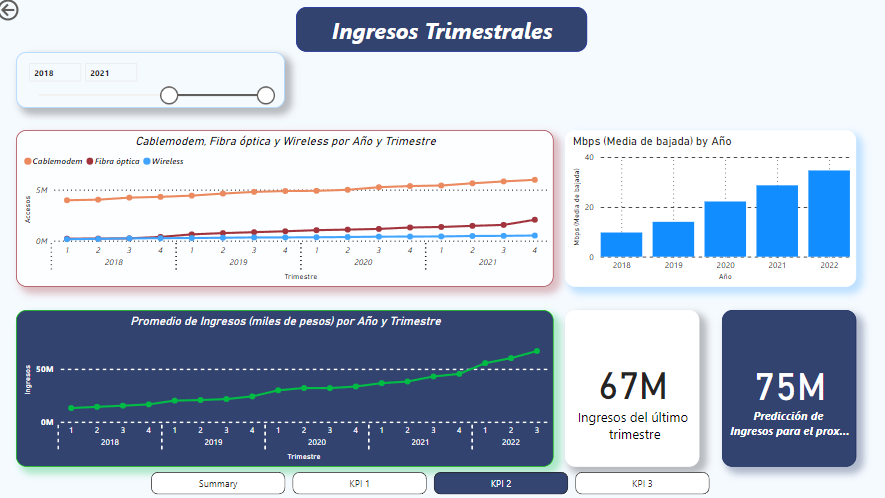

What the dashboard file says about the page in this screenshot:
{"tool":"powerbi","page":{"name":"KPI 2","canvas":[1280,720],"ordinal":2},"visuals":[{"type":"actionButton","box":[0,0,100,40],"z":0},{"type":"slicer","fields":{"Values":["año.Año"]},"box":[32,80,384,80],"z":1000},{"type":"lineChart","title":"Cablemodem, Fibra óptica y Wireless por Año y Trimestre","fields":{"Y":["Sum(Serie_trimestral_accesos_Internet_fijo_por_tecnología.Cablemodem)","Sum(Serie_trimestral_accesos_Internet_fijo_por_tecnología.Fibra óptica)","Sum(Serie_trimestral_accesos_Internet_fijo_por_tecnología.Wireless)"],"Category":["año.Año","accesos_Internet_fijo_por_tecnología.Trimestre"]},"box":[32,192,768,224],"z":2000},{"type":"lineChart","title":"Promedio de Ingresos (miles de pesos) por Año y Trimestre","fields":{"Category":["año.Año","Internet_Ingresos_trimestrales.Trimestre"],"Y":["Avg(Internet_Ingresos_trimestrales.Ingresos (miles de pesos))"]},"box":[32,448,768,224],"z":3000},{"type":"textbox","box":[432,16,416,64],"z":4000},{"type":"clusteredColumnChart","fields":{"Y":["Avg(Velocidad_media_bajada_por_provincia.Mbps (Media de bajada))"],"Category":["año.Año"]},"box":[816,192,416,224],"z":5000},{"type":"card","fields":{"Values":["Sum(prediccion.valor)"]},"box":[1040,448,192,224],"z":6000},{"type":"card","fields":{"Values":["Sum(Internet_Ingresos_trimestrales.Ingresos (miles de pesos))"]},"box":[816,448,192,224],"z":7000}]}

Visuals, with their boxes in screenshot pixels (x1, y1, x2, y2), scaled from the page's 1280x720 canvas onto the 885x498 screenshot:
actionButton: select_region(0, 0, 69, 28)
slicer - año.Año: select_region(22, 55, 288, 111)
"Cablemodem, Fibra óptica y Wireless por Año y Trimestre" lineChart: select_region(22, 133, 553, 288)
"Promedio de Ingresos (miles de pesos) por Año y Trimestre" lineChart: select_region(22, 310, 553, 465)
textbox: select_region(299, 11, 586, 55)
clusteredColumnChart - Avg(Velocidad_media_bajada_por_provincia.Mbps (Media de bajada)) x año.Año: select_region(564, 133, 852, 288)
card - Sum(prediccion.valor): select_region(719, 310, 852, 465)
card - Sum(Internet_Ingresos_trimestrales.Ingresos (miles de pesos)): select_region(564, 310, 697, 465)
